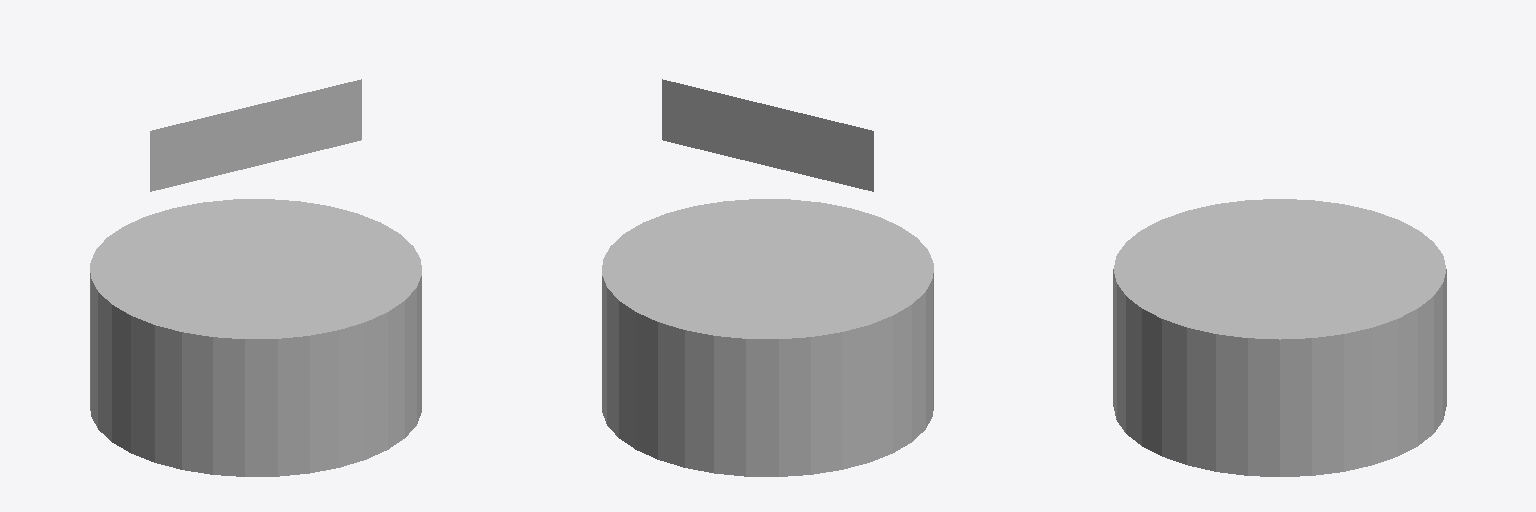
File: goal.obj
The picture shows the model from 3 angles: view 1: azimuth 30°, elevation 25°; view 2: azimuth 150°, elevation 25°; view 3: azimuth 270°, elevation 25°; orthographic projection.
Parts seen in each view (by area): view 1: 円柱; view 2: 円柱; view 3: 円柱.
Boxes of the visible parts, <box> form: 円柱: <box>90,79,421,476</box>; 円柱: <box>602,79,933,476</box>; 円柱: <box>1113,199,1446,476</box>.
Size of the model in its own units: 2 by 2 by 2.